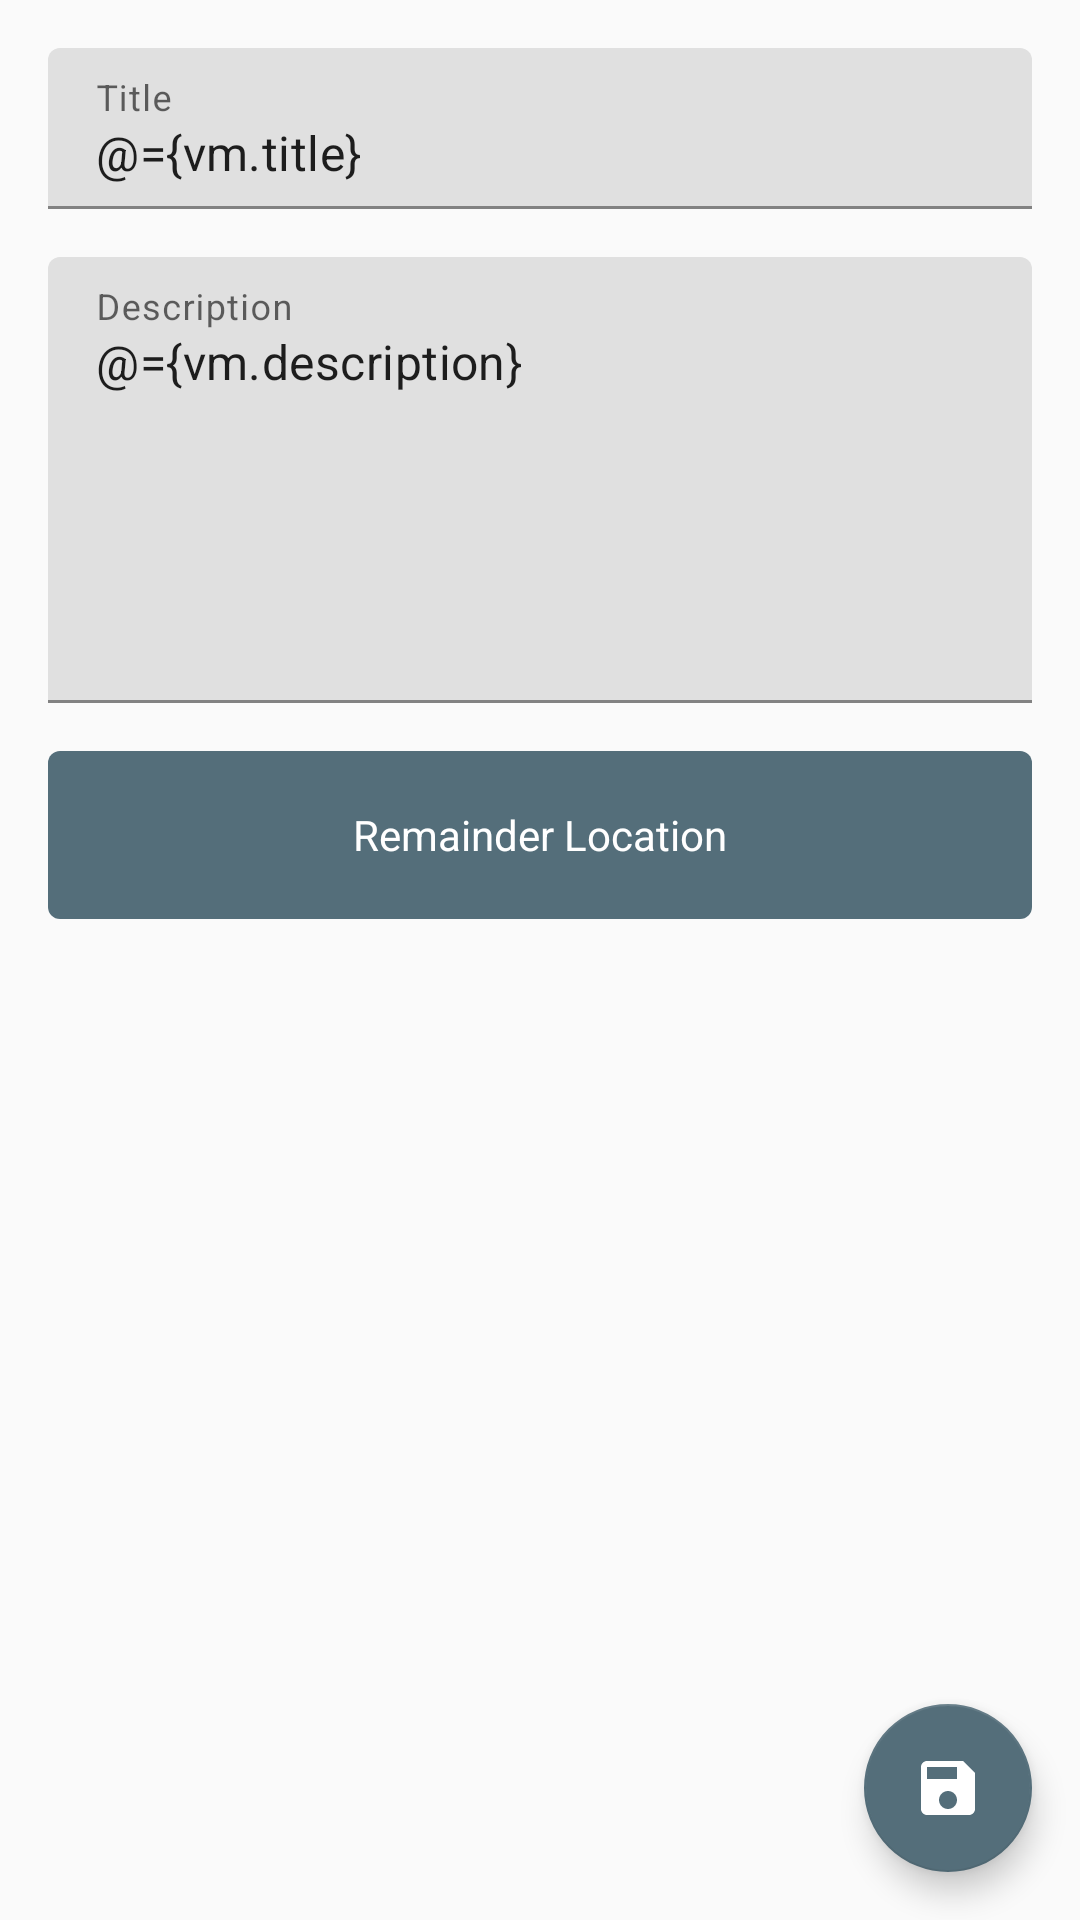

Where icons sit on this 1080x1920 app screen, as (x1, y1, x2, y2):
Action for save new remainder: (864, 1704, 1032, 1872)
